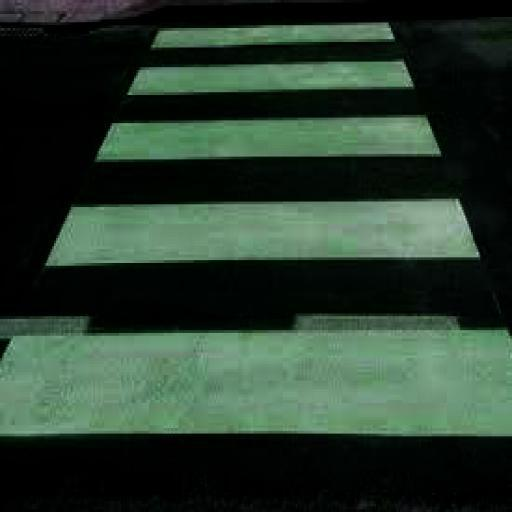crosswalk: (2, 190, 510, 464), (121, 17, 419, 98)
